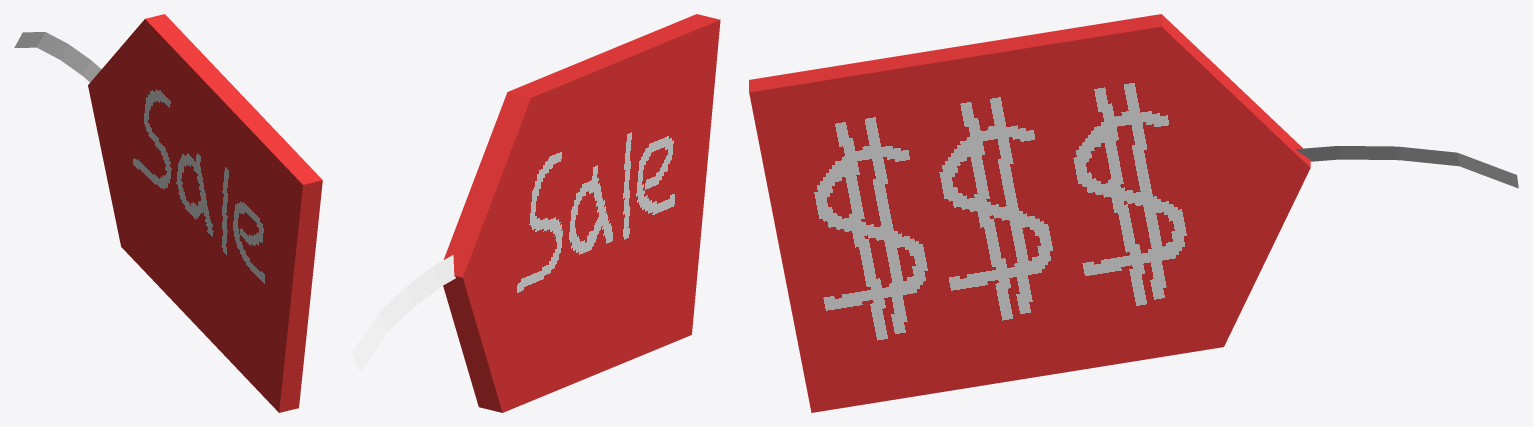
File: thrifting.glb
3 views of the same model, side by side, from view 1: azimuth 30°, elevation 25°; view 2: azimuth 150°, elevation 25°; view 3: azimuth 270°, elevation 25° (orthographic). The views are drawn at different scales.
Visible parts, largest first — view 1: tag, string; view 2: tag, string; view 3: tag, string.
Boxes of the visible parts, left/top/right/bottom form: tag: left=88, top=14, right=322, bottom=412; string: left=14, top=32, right=101, bottom=82; tag: left=443, top=14, right=720, bottom=412; string: left=351, top=255, right=455, bottom=372; tag: left=749, top=14, right=1310, bottom=412; string: left=1295, top=146, right=1518, bottom=188.
Size of the model in its own units: 0.0313 by 0.4453 by 0.804.
Materials: 2 (2 with a texture image).
